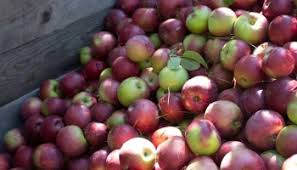apple: (116, 138, 157, 168), (220, 39, 257, 71), (232, 14, 268, 44), (60, 104, 95, 129), (192, 121, 222, 150), (53, 126, 84, 153), (119, 80, 152, 105), (162, 62, 187, 90), (187, 7, 213, 32), (212, 10, 233, 32)
